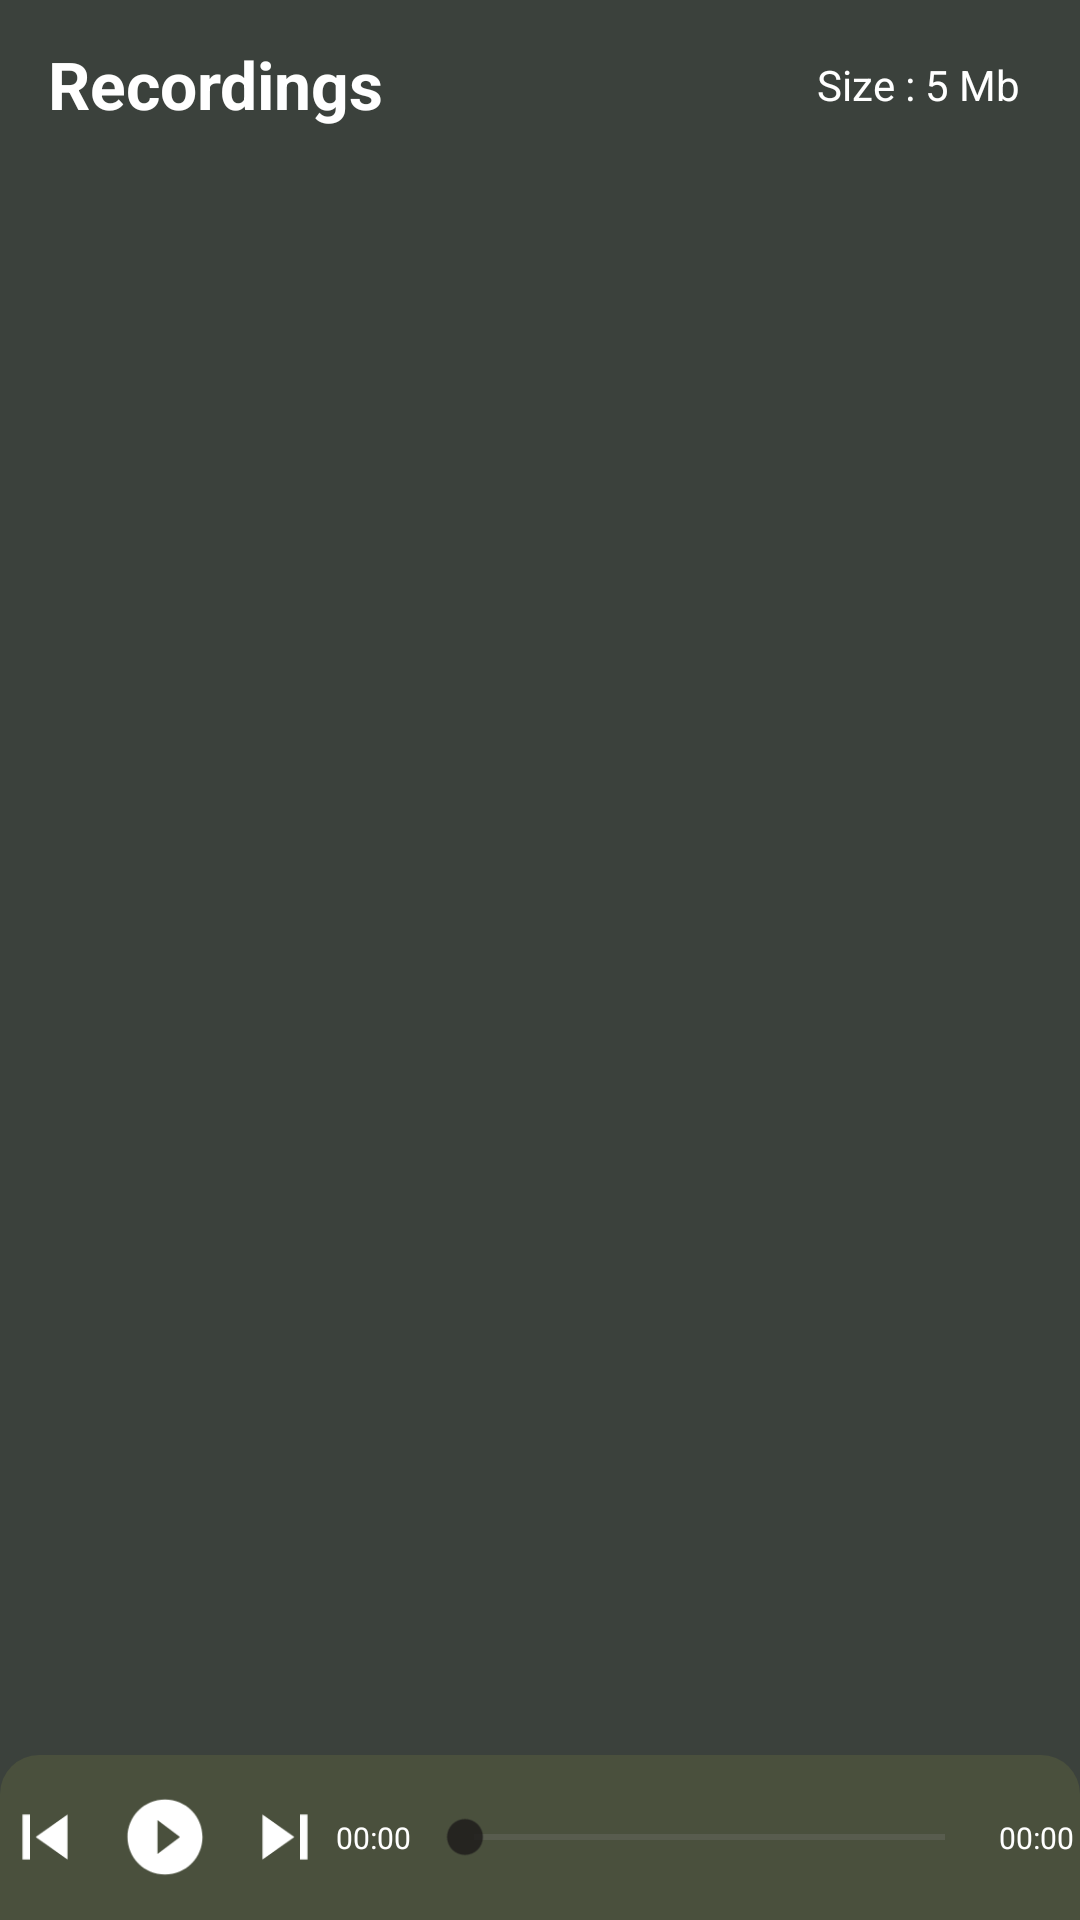

Where icons sit on this 1080x1920 app screen, as [left=x1, top=y1, right=x2, bottom=y2]:
play circle: [left=127, top=1799, right=203, bottom=1875]
skip next: [left=262, top=1814, right=308, bottom=1860]
skip previous: [left=22, top=1814, right=68, bottom=1860]
